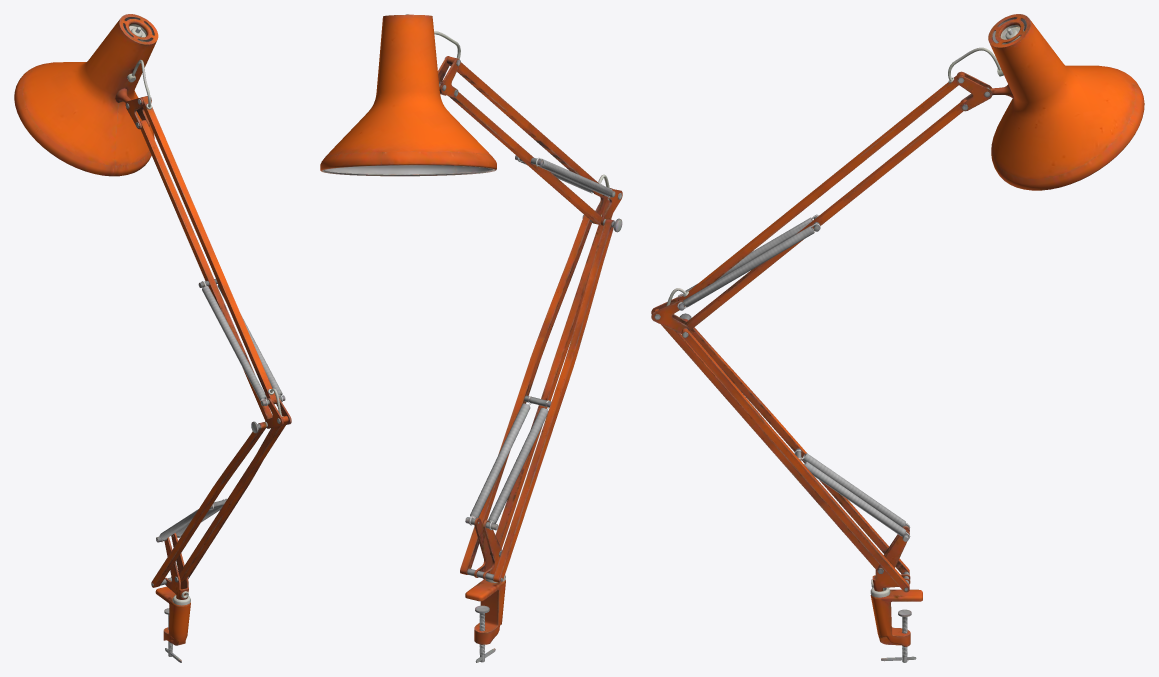
File: desk_lamp_arm_01.glb
The picture shows the model from 3 angles, left to right: view 1: azimuth 30°, elevation 25°; view 2: azimuth 150°, elevation 25°; view 3: azimuth 270°, elevation 25°; orthographic projection. The views are drawn at different scales.
Visible parts, largest first — view 1: desk_lamp_arm_01; view 2: desk_lamp_arm_01; view 3: desk_lamp_arm_01.
Boxes of the visible parts, x1=… form: desk_lamp_arm_01: x1=14, y1=14, x2=291, y2=662; desk_lamp_arm_01: x1=320, y1=14, x2=622, y2=662; desk_lamp_arm_01: x1=651, y1=14, x2=1144, y2=662.
Bounding box in the file's own units: 0.2017 × 0.8926 × 0.6139.
2 materials, 2 textured.
